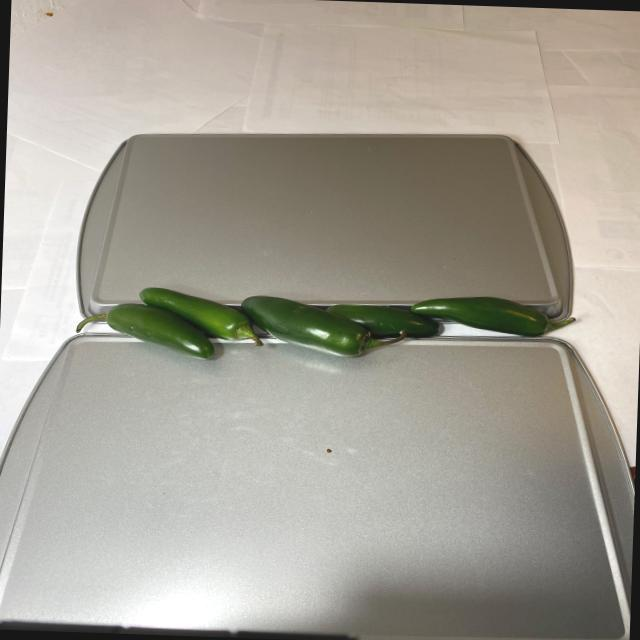chilli: (75, 281, 584, 368)
